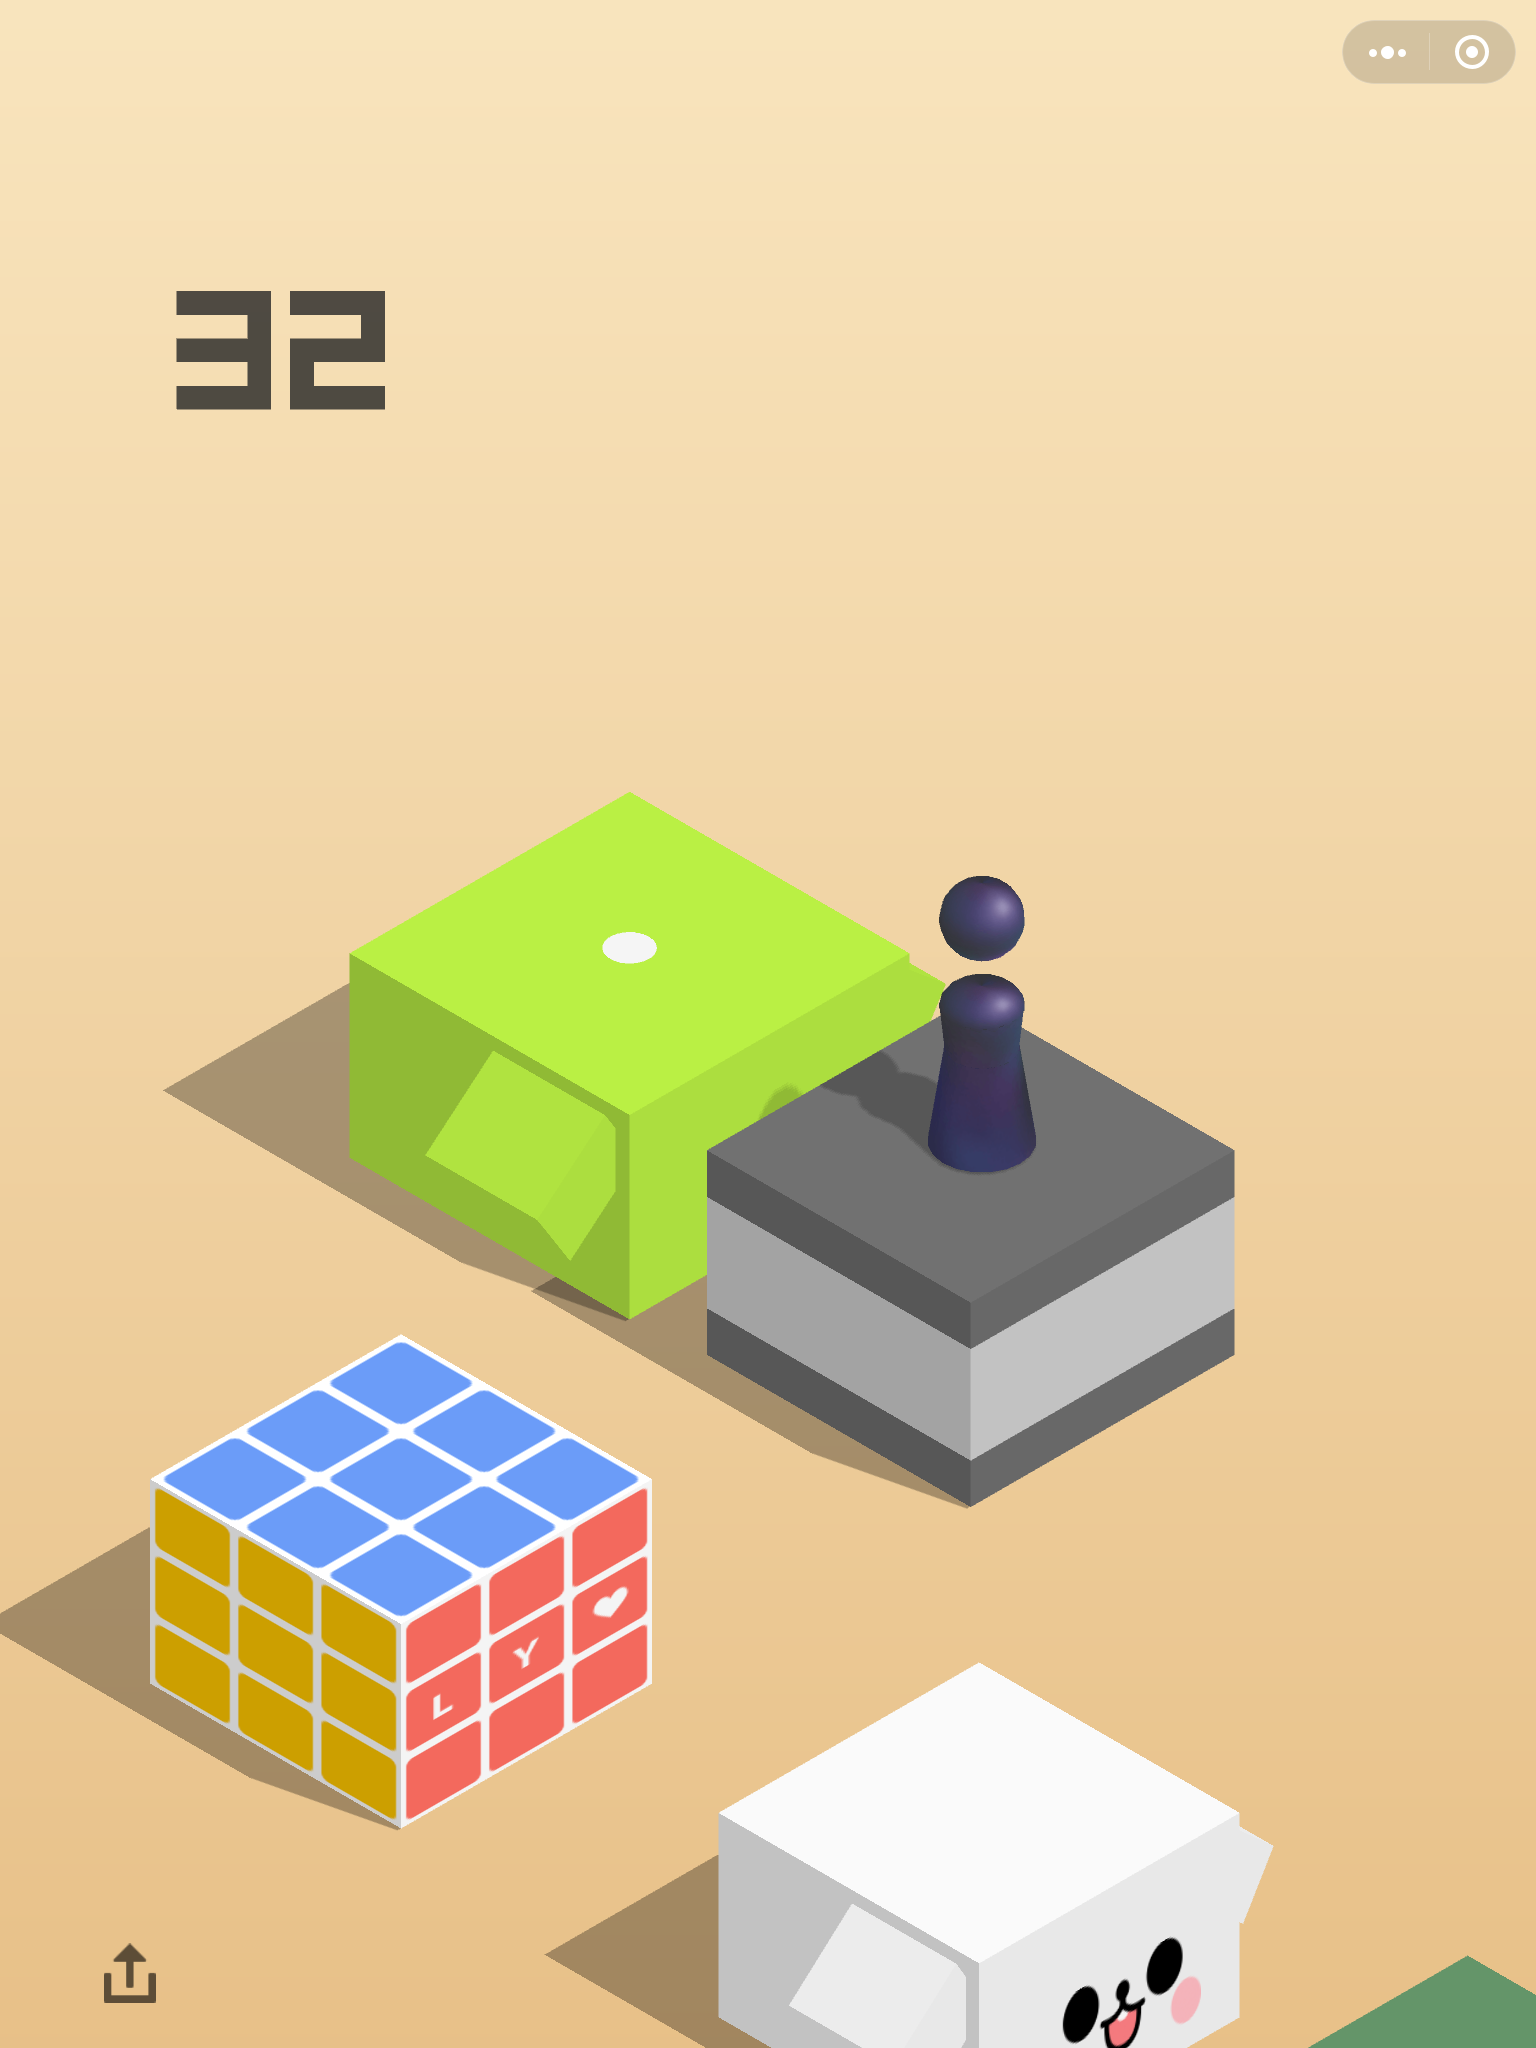f: (340, 768, 949, 1340), (699, 990, 1242, 1519), (137, 1322, 660, 1854), (712, 1656, 1278, 2048)
r: (921, 866, 1042, 1179)
